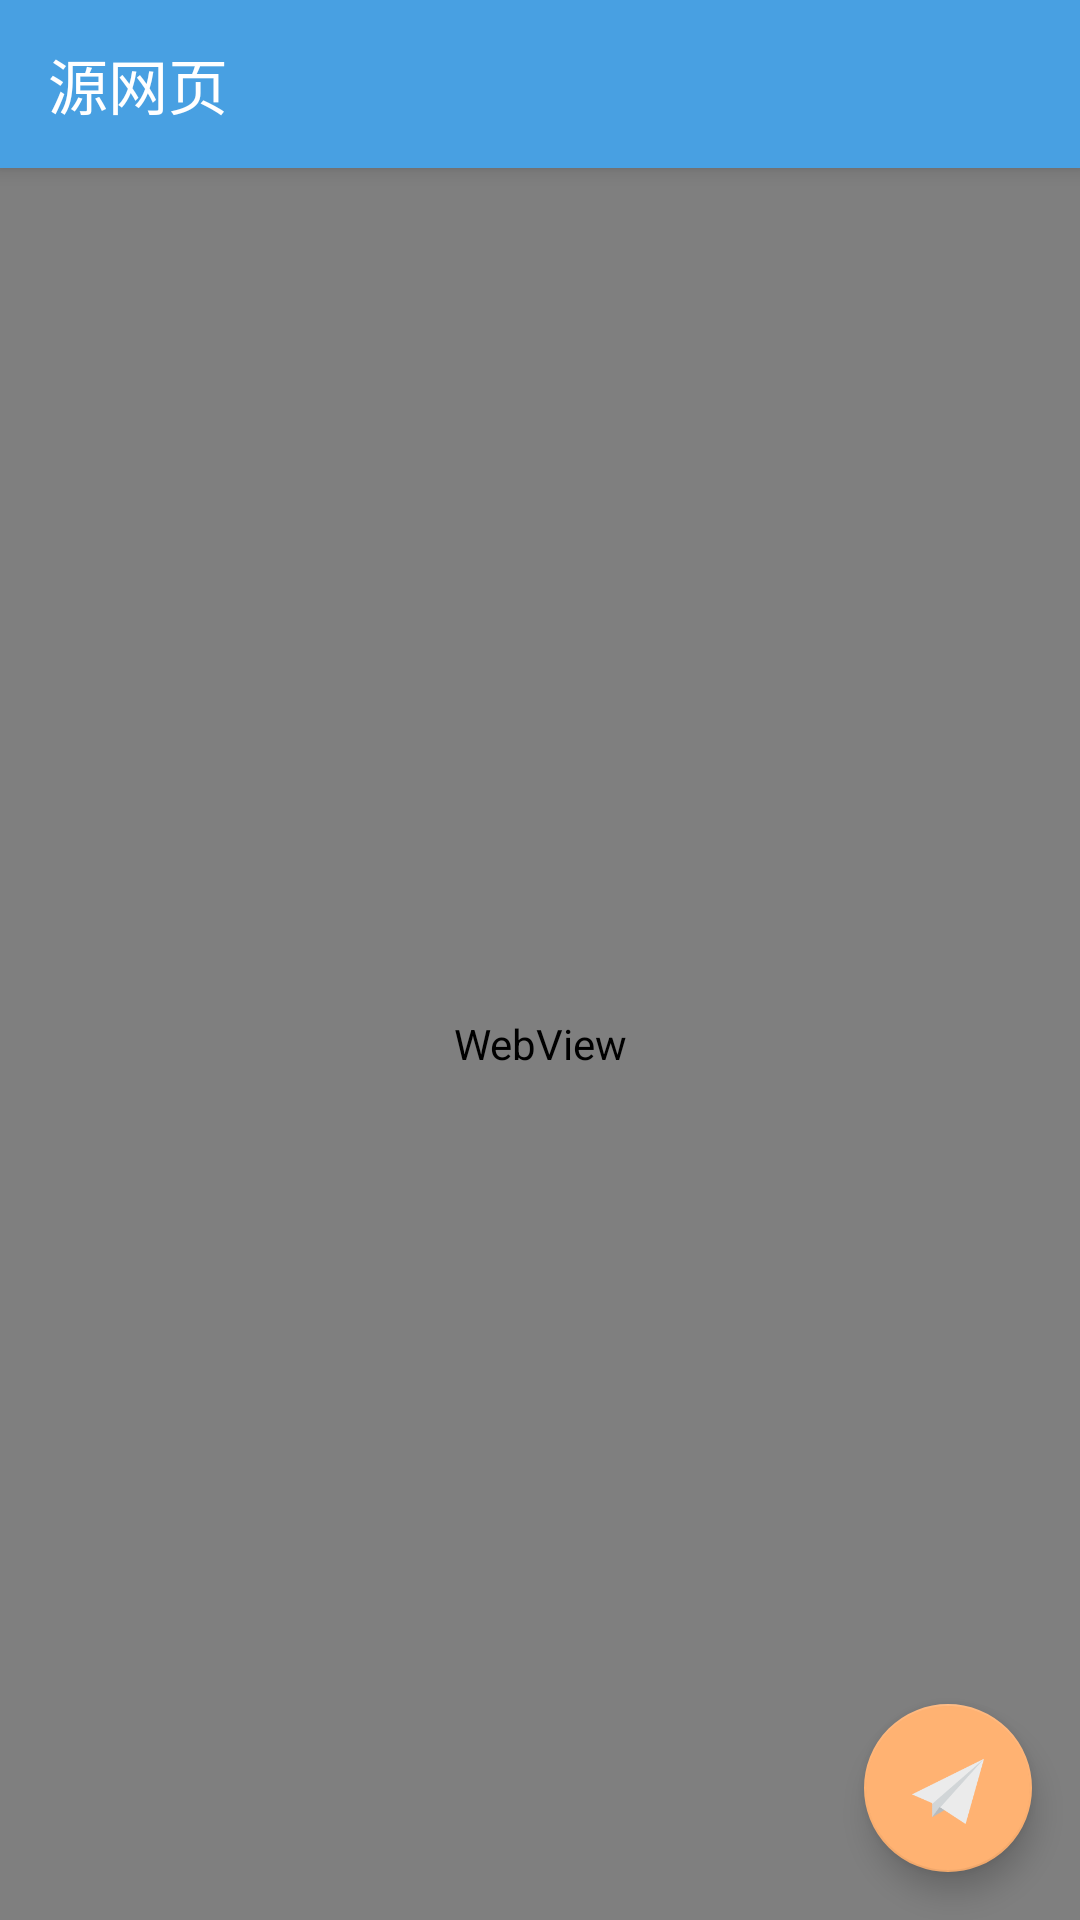

Screen size 1080*1920. Icon name, then its box in pixels as Rect(x1, y1, x2, y2):
plane: Rect(864, 1704, 1032, 1872)
